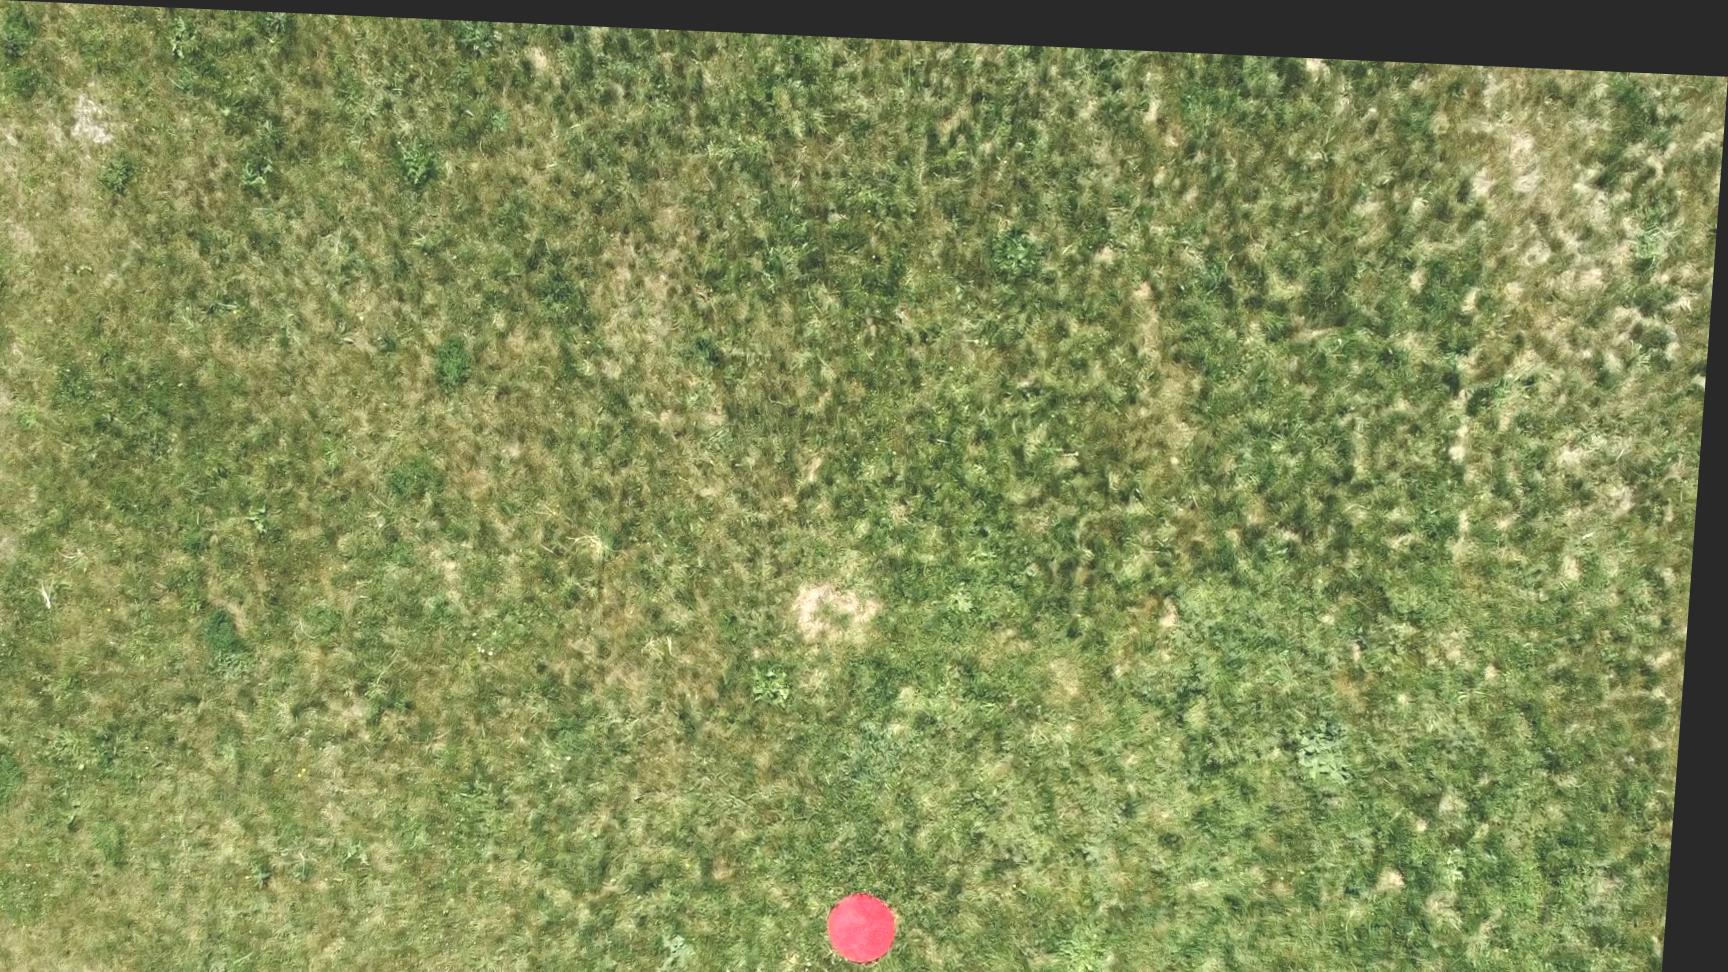Red: (838, 881, 916, 959)
